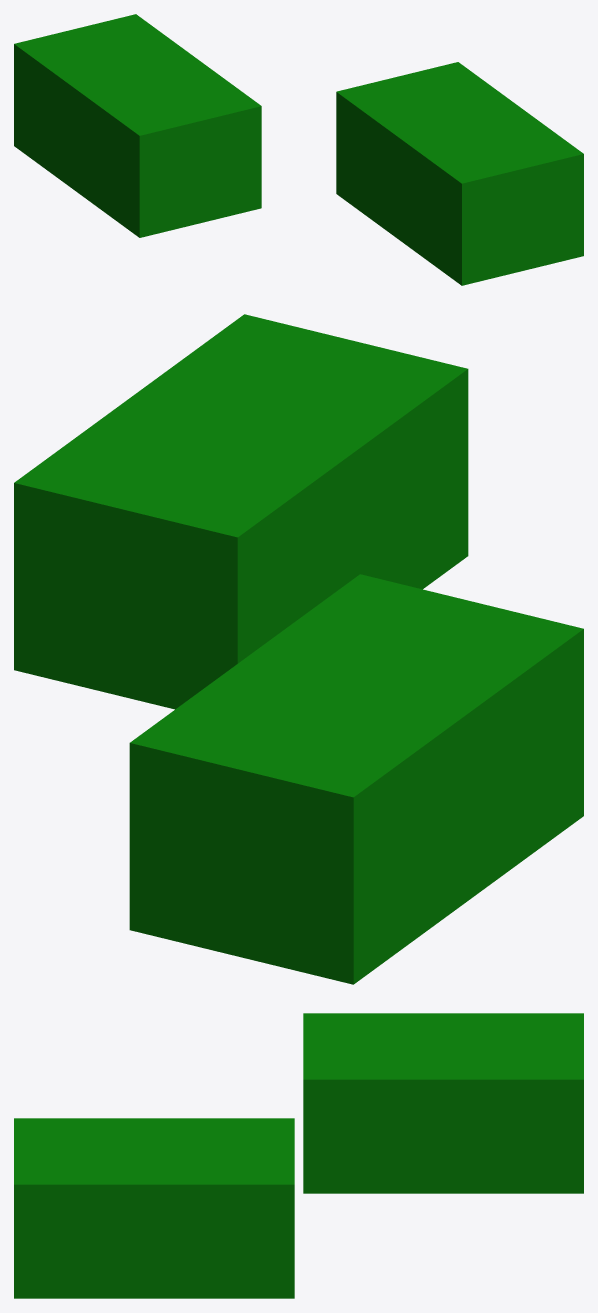
File: inst_max_oc.DAE
The picture shows the model from 3 angles, top to bottom: view 1: azimuth 30°, elevation 25°; view 2: azimuth 150°, elevation 25°; view 3: azimuth 270°, elevation 25°; orthographic projection. The views are drawn at different scales.
Visible parts, largest first — view 1: Box001, Box002; view 2: Box002, Box001; view 3: Box001, Box002.
Part boxes in pixels (x1,y1,x2,y2): Box001: (336, 62, 583, 285); Box002: (14, 14, 261, 237); Box002: (129, 574, 583, 984); Box001: (14, 314, 468, 709); Box001: (14, 1118, 294, 1298); Box002: (303, 1013, 583, 1193).
Size of the model in its own units: 113 by 159 by 35.18.
